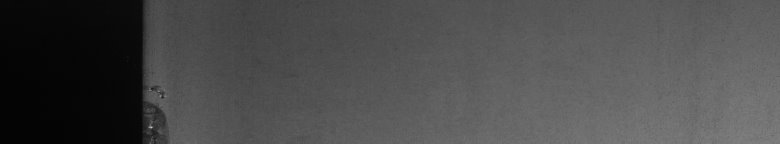hb: (152, 79, 174, 136)
